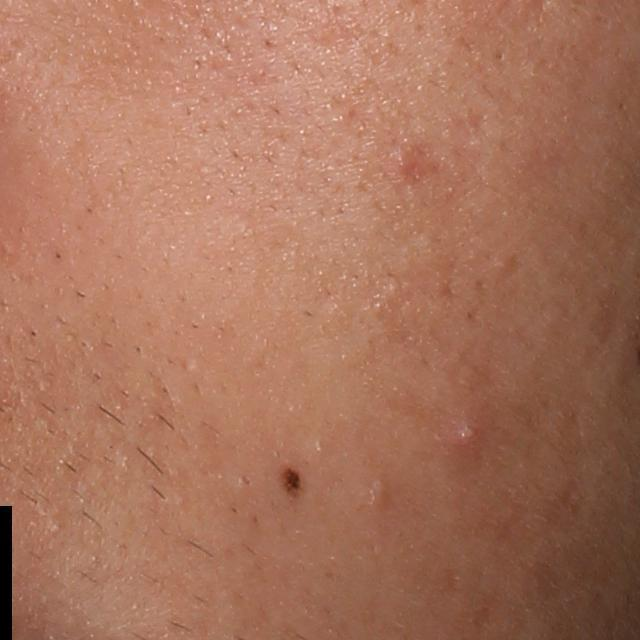comedo: (366, 475, 390, 505), (490, 255, 510, 273)
nevus: (274, 460, 302, 499)
papule: (446, 413, 489, 451), (393, 147, 417, 173)
